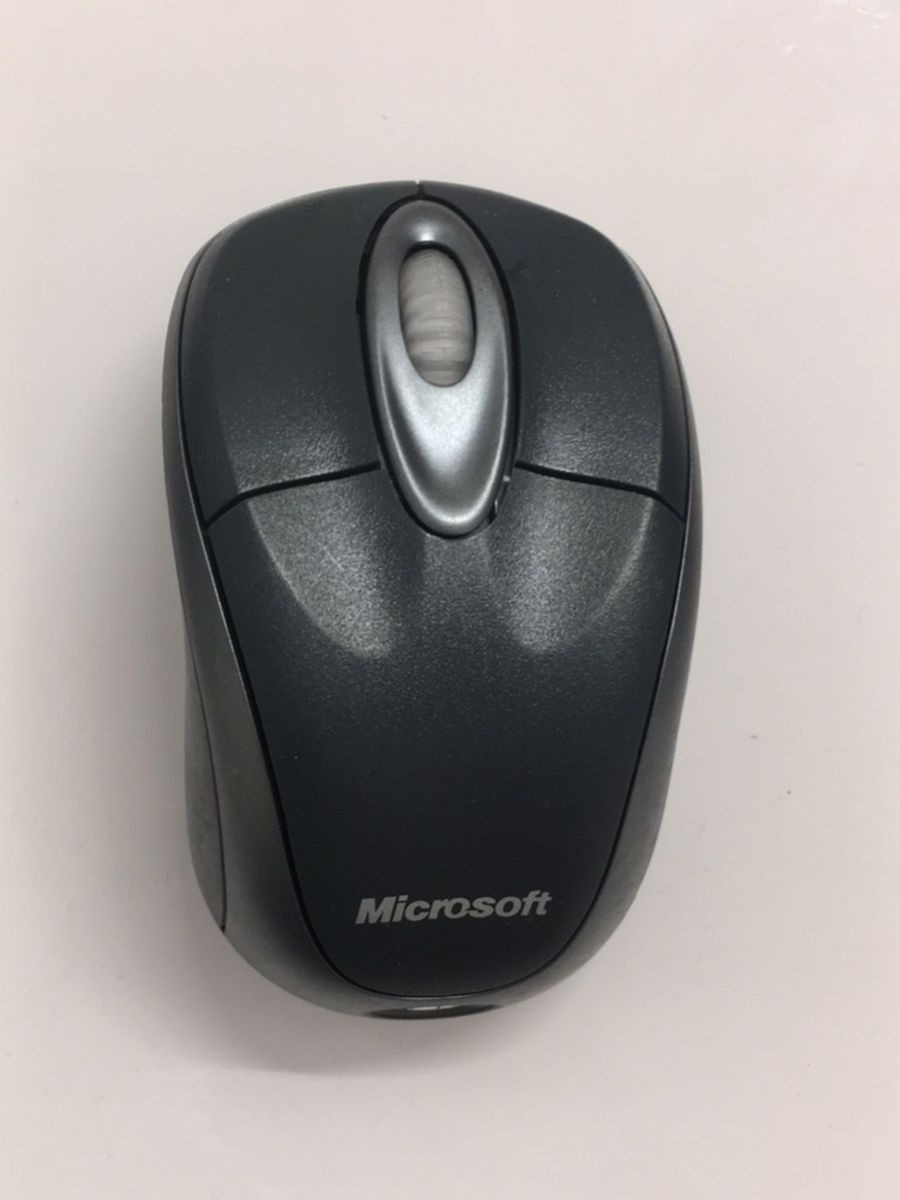mouse: (130, 161, 709, 1033)
